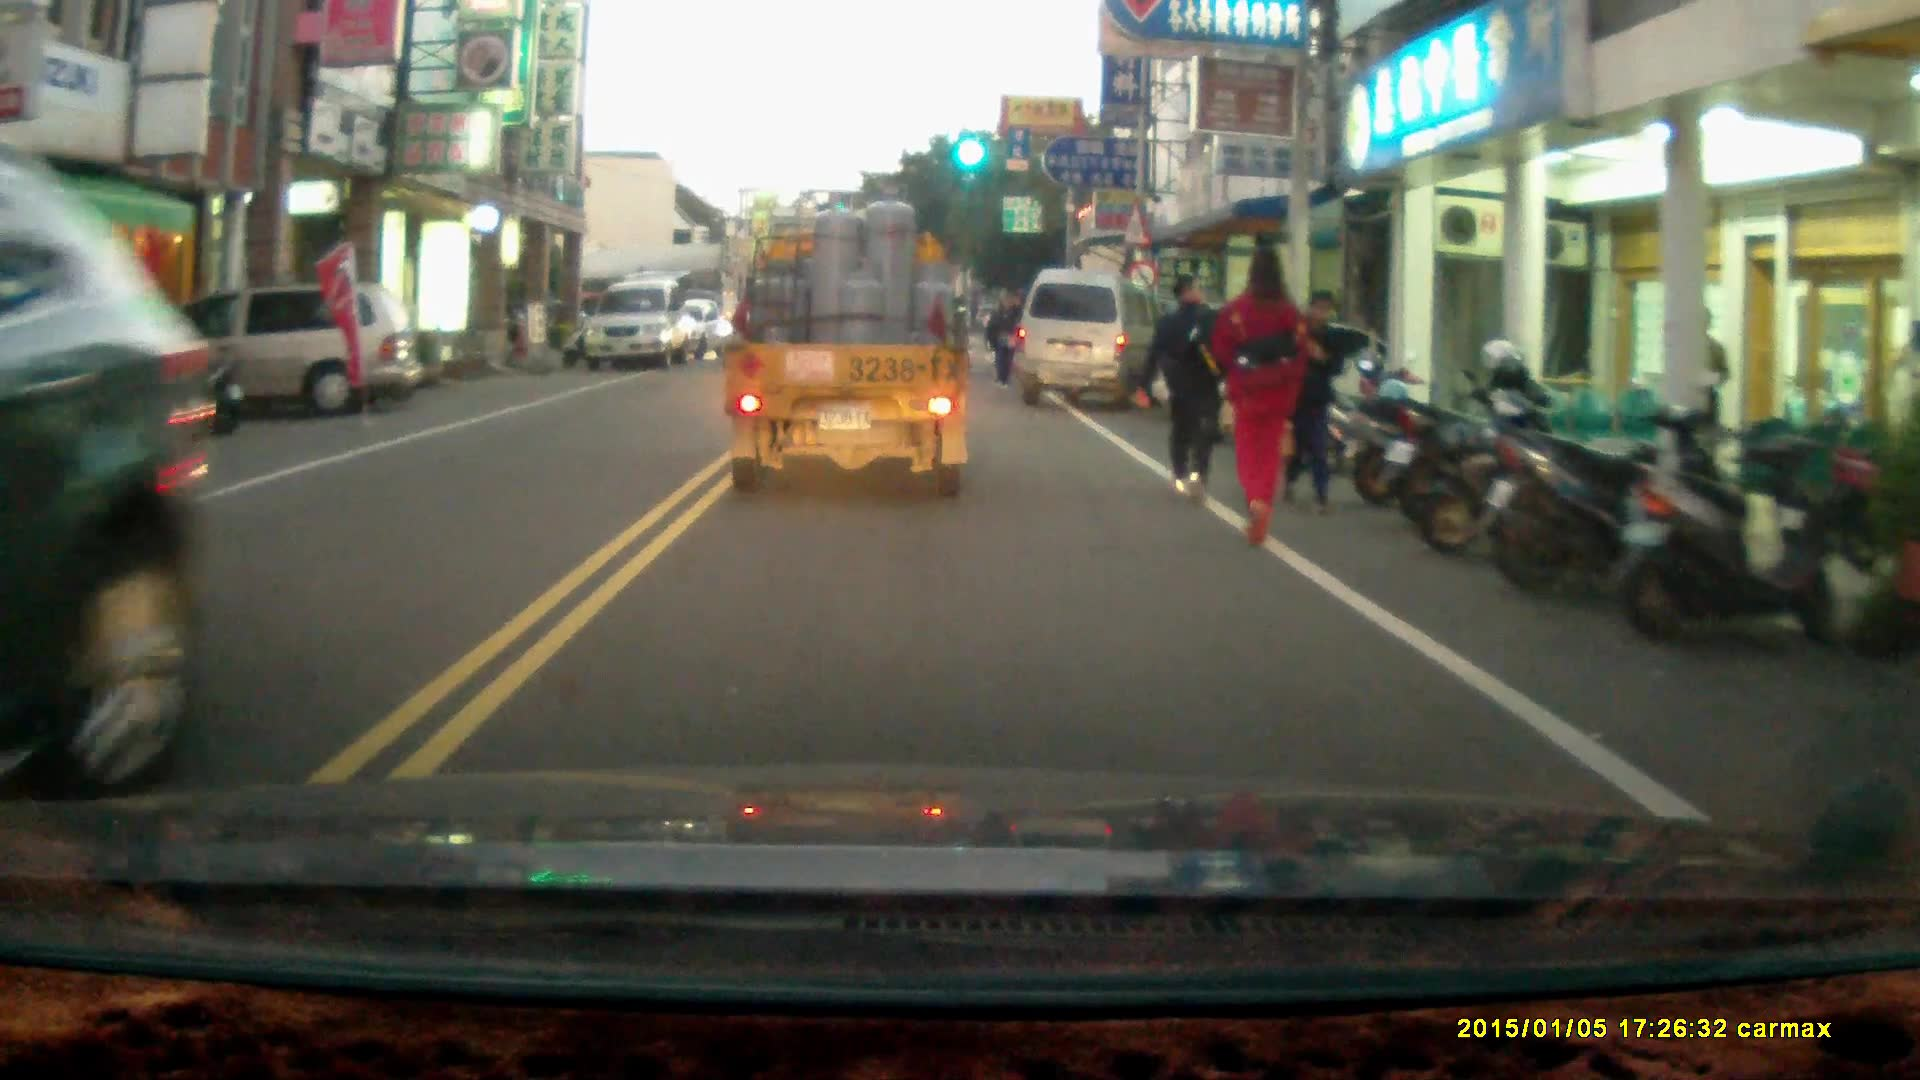pedestrian: (1216, 240, 1308, 556), (1138, 271, 1227, 501), (1283, 284, 1347, 513), (987, 295, 1022, 389)
vehicle: (715, 187, 978, 511), (129, 290, 419, 421), (1019, 267, 1164, 411), (589, 277, 704, 370)
